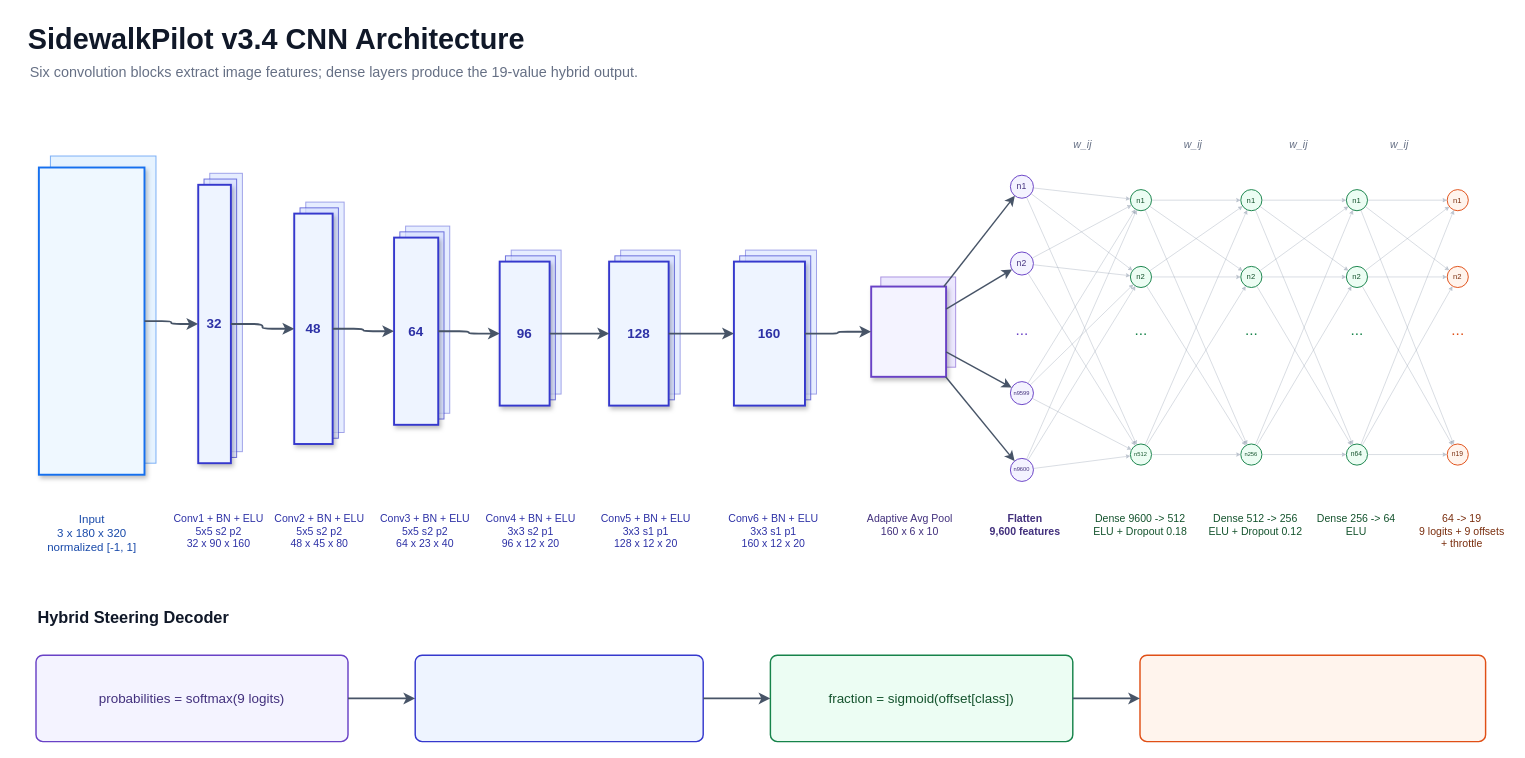
Some shapes in this 1525 by 758 pixel diagram are drawn without their labels. Here are the shapes that lost their labels. From the top down, the centre of each, then its label:
(x=92, y=322): BGR IMAGE
(x=909, y=332): 160 x 6 x 10
(x=558, y=698): class = argmax(probabilities)
(x=1312, y=698): steering = class_low + fraction x (class_high - class_low)
